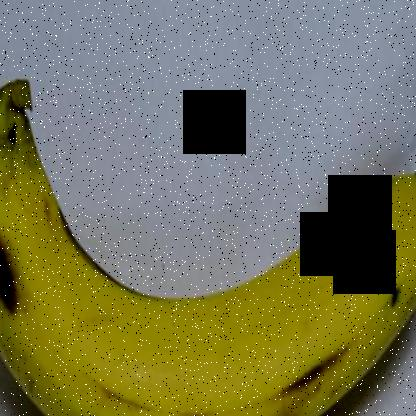freshripe: (1, 72, 416, 415)
